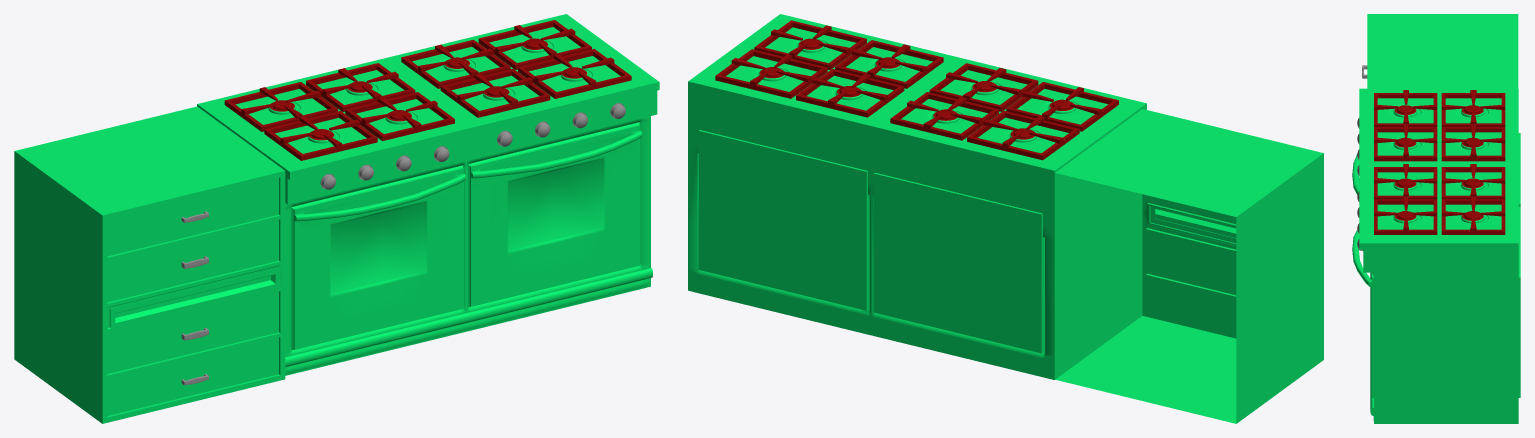
Rendered from cuisineplaque1.fbx.
3 renders of one model, left to right at view 1: azimuth 30°, elevation 25°; view 2: azimuth 150°, elevation 25°; view 3: azimuth 270°, elevation 25°, orthographic. The views are drawn at different scales.
Visible parts, largest first — view 1: cuisineplaque; view 2: cuisineplaque; view 3: cuisineplaque.
Part boxes in pixels (x1,y1,x2,y2): cuisineplaque: [14, 14, 659, 423]; cuisineplaque: [688, 14, 1323, 423]; cuisineplaque: [1352, 14, 1520, 423].
Bounding box in the file's own units: 179 × 67.92 × 55.2.
